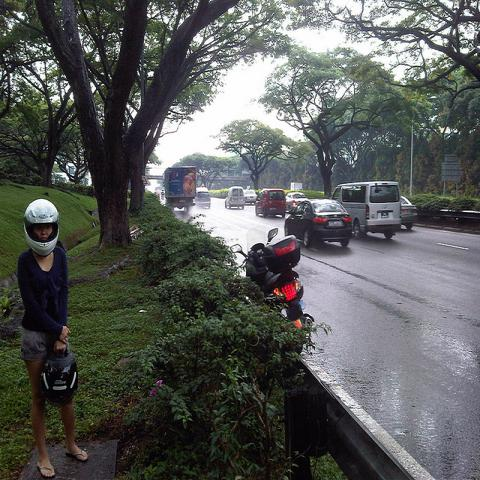car: (284, 194, 351, 248), (255, 188, 286, 218), (400, 194, 418, 230), (224, 186, 246, 210), (286, 192, 310, 213), (194, 187, 211, 208), (243, 190, 257, 203)
motorcycle: (229, 221, 307, 344)
truck: (330, 184, 404, 238), (163, 165, 196, 213), (224, 184, 246, 210)
